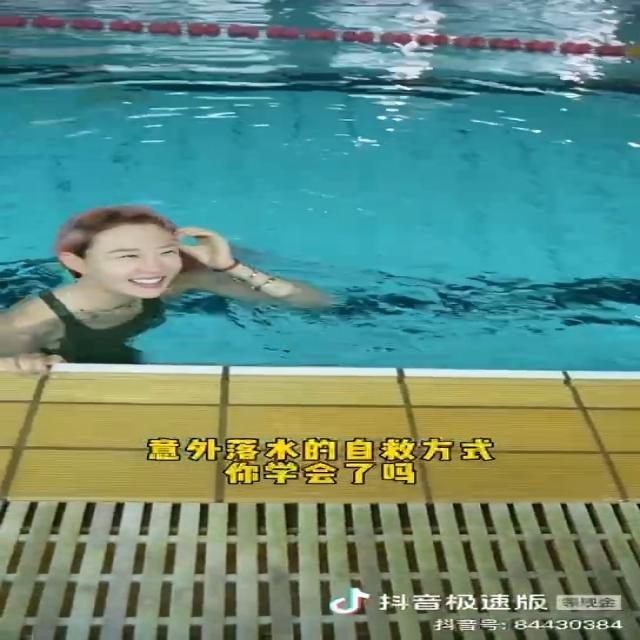Swimming: (0, 208, 328, 373)
